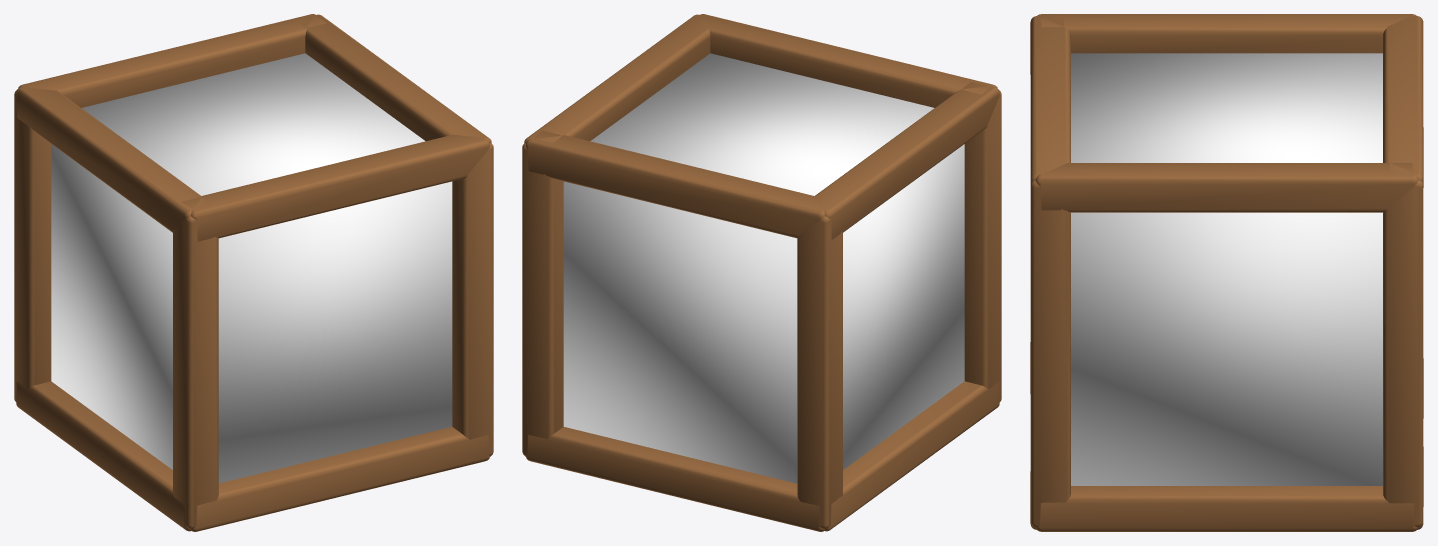
The model's file is itembox_mobile.glb.
The picture shows the model from 3 angles, left to right: view 1: azimuth 30°, elevation 25°; view 2: azimuth 150°, elevation 25°; view 3: azimuth 270°, elevation 25°; orthographic projection. The views are drawn at different scales.
Visible parts, largest first — view 1: ItemCore, ItemFrame; view 2: ItemCore, ItemFrame; view 3: ItemCore, ItemFrame.
Part boxes in pixels (x1=…): ItemCore: x1=51, y1=53, x2=452, y2=483; ItemFrame: x1=14, y1=14, x2=493, y2=531; ItemCore: x1=563, y1=53, x2=964, y2=483; ItemFrame: x1=522, y1=14, x2=1001, y2=531; ItemCore: x1=1071, y1=53, x2=1382, y2=485; ItemFrame: x1=1030, y1=14, x2=1423, y2=531.
Bounding box in the file's own units: 1.74 × 1.74 × 1.74.
